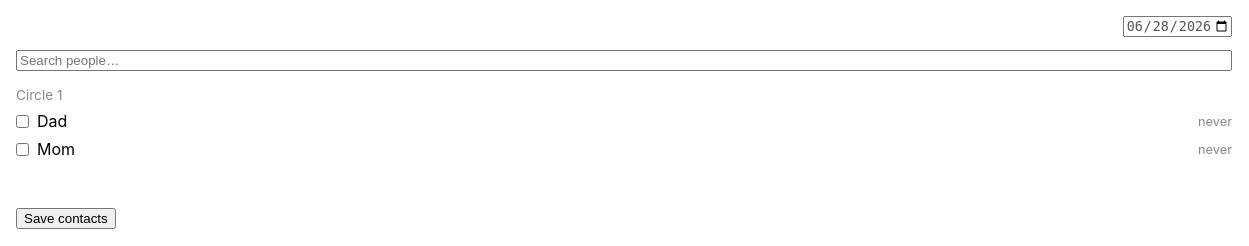
Test case: DailyCheckin › search filters the visible people by name
The width and height of the screenshot is (1249, 246).
Type "Mo" into the field with placeholder "Search people…" at (624, 61), box [16,50,1232,71]
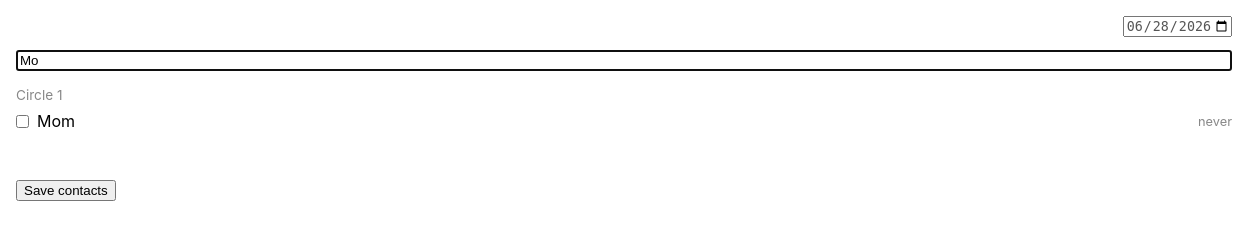
Expected: the checkbox labelled "Mom" is shown, [16,115,29,128]
Result: the text "Dad" is gone
